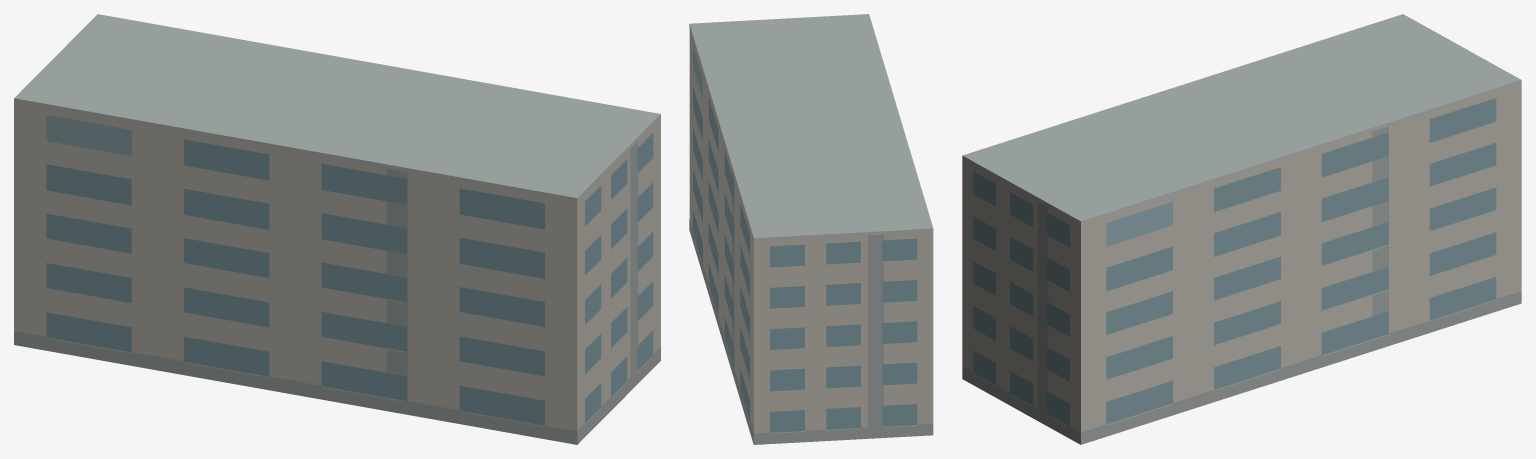
Rendered from residential-036b0cbc-c807-40ba-8972-b6e373cb1cc9.glb.
The picture shows the model from 3 angles, left to right: view 1: azimuth 30°, elevation 25°; view 2: azimuth 150°, elevation 25°; view 3: azimuth 270°, elevation 25°; orthographic projection. The views are drawn at different scales.
Visible parts, largest first — view 1: residential-036b0cbc-c807-40ba-8972-b6e373cb1cc9.tmp; view 2: residential-036b0cbc-c807-40ba-8972-b6e373cb1cc9.tmp; view 3: residential-036b0cbc-c807-40ba-8972-b6e373cb1cc9.tmp.
Part boxes in pixels (x1,y1,x2,y2): residential-036b0cbc-c807-40ba-8972-b6e373cb1cc9.tmp: (14,14,660,444); residential-036b0cbc-c807-40ba-8972-b6e373cb1cc9.tmp: (689,14,933,444); residential-036b0cbc-c807-40ba-8972-b6e373cb1cc9.tmp: (962,14,1521,444).
Bounding box in the file's own units: 28.45 × 14.3 × 32.43.
